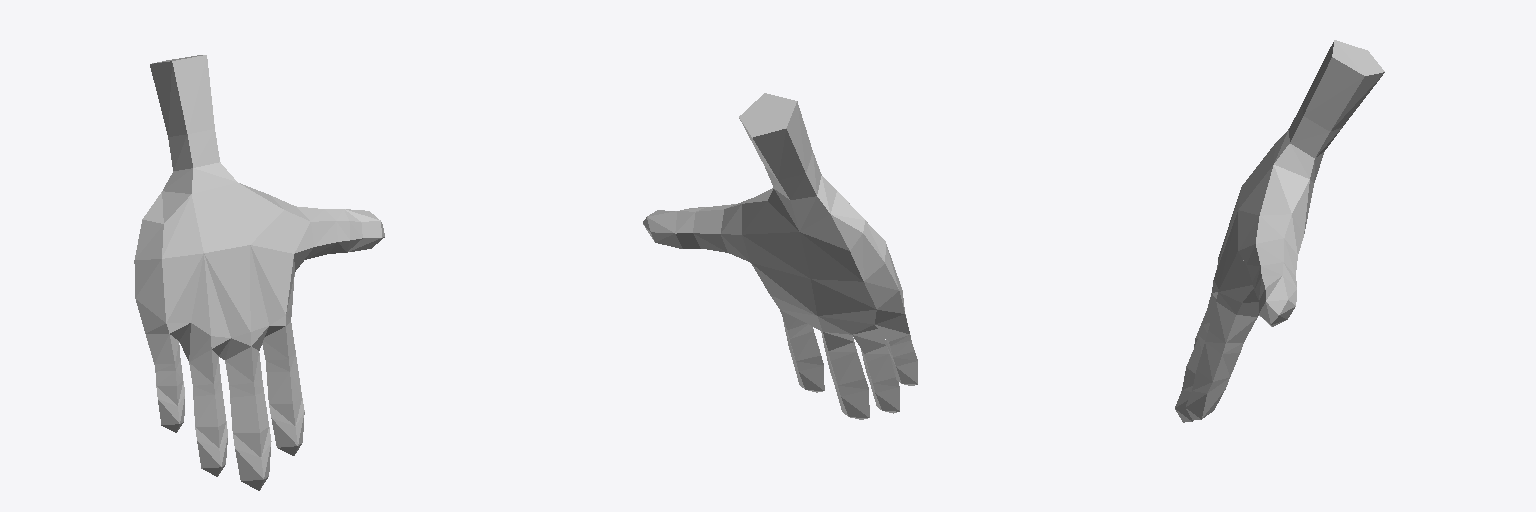
The model's file is antebrazo_der.obj.
The picture shows the model from 3 angles: view 1: azimuth 30°, elevation 25°; view 2: azimuth 150°, elevation 25°; view 3: azimuth 270°, elevation 25°; orthographic projection.
Parts seen in each view (by area): view 1: Material_#95.007; view 2: Material_#95.007; view 3: Material_#95.007.
Boxes of the visible parts, <box> form: Material_#95.007: <box>134,55,384,490</box>; Material_#95.007: <box>643,93,917,419</box>; Material_#95.007: <box>1175,40,1384,422</box>.
Size of the model in its own units: 1.76 by 2.52 by 1.27.